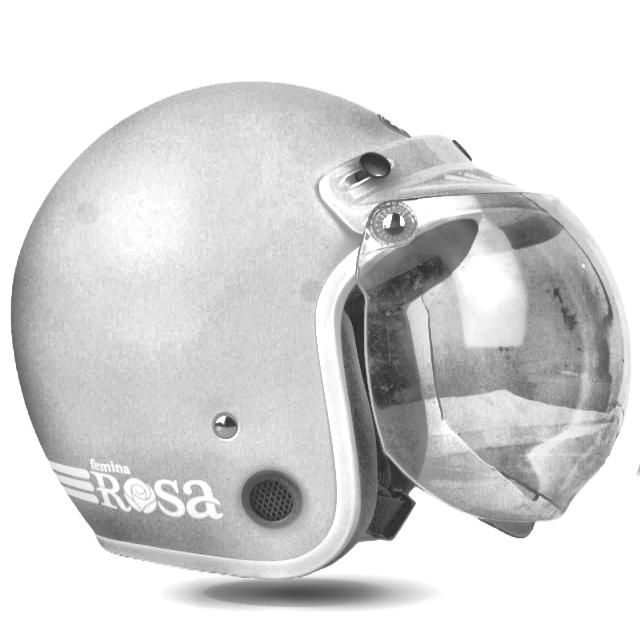Helmet: (0, 70, 640, 603)
